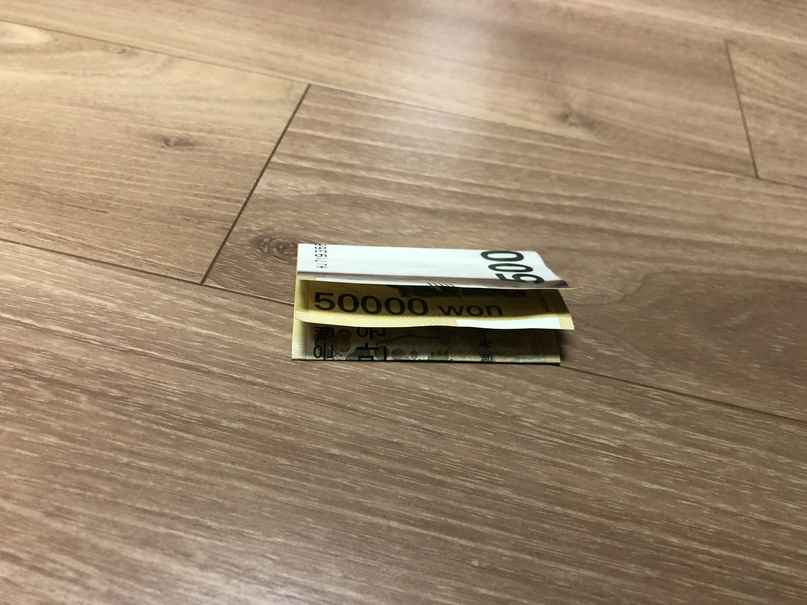50000won: (292, 243, 584, 362)
